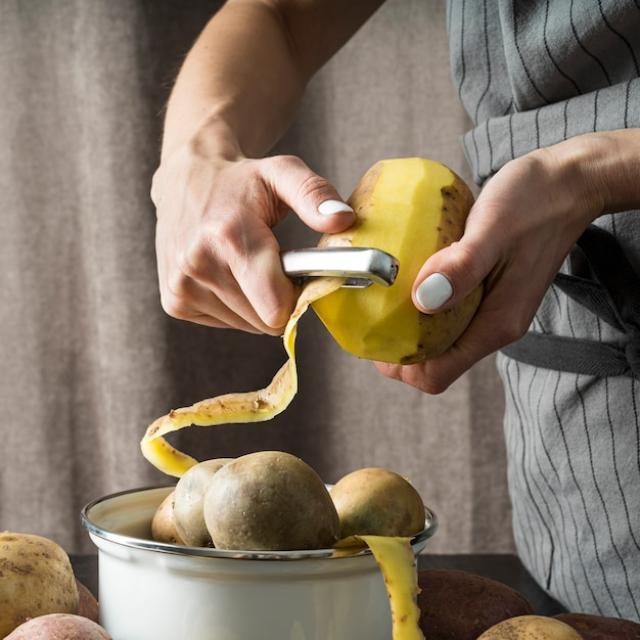Potato: (288, 147, 485, 381), (154, 443, 340, 583)
